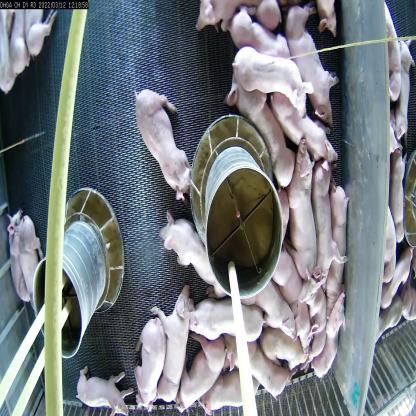Pig: (130, 80, 197, 207), (284, 0, 334, 123), (153, 204, 223, 290), (182, 286, 266, 353), (230, 44, 309, 107), (236, 90, 288, 184), (272, 90, 336, 156), (245, 272, 300, 346), (233, 330, 290, 400), (155, 288, 188, 407), (328, 174, 356, 304), (286, 140, 314, 268), (312, 290, 348, 379), (134, 320, 168, 412), (181, 342, 222, 415), (67, 366, 131, 412), (0, 199, 28, 304), (18, 206, 48, 298), (312, 161, 332, 290), (303, 272, 325, 366), (210, 376, 254, 415)
